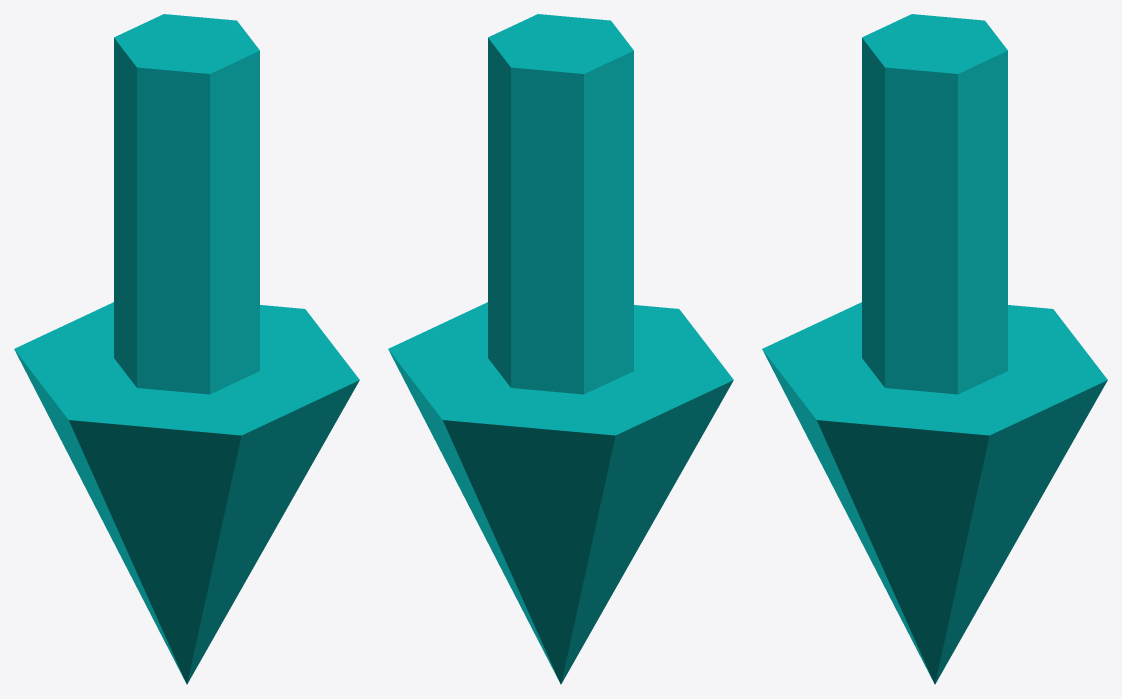
The model's file is arrow.glb.
The picture shows the model from 3 angles, left to right: view 1: azimuth 30°, elevation 25°; view 2: azimuth 150°, elevation 25°; view 3: azimuth 270°, elevation 25°; orthographic projection.
Visible parts, largest first — view 1: arrow; view 2: arrow; view 3: arrow.
Boxes of the visible parts, bbox=[...] form: arrow: bbox=[14, 14, 359, 684]; arrow: bbox=[388, 14, 733, 684]; arrow: bbox=[762, 14, 1107, 684].
Bounding box in the file's own units: 0.9511 × 2 × 0.9782.
